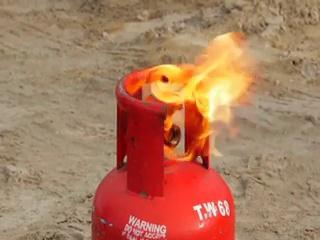Fire: (132, 11, 287, 172)
